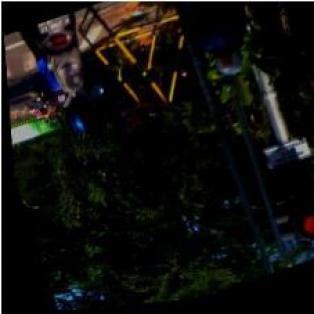Semaforo Rojo: (279, 163, 314, 250)
